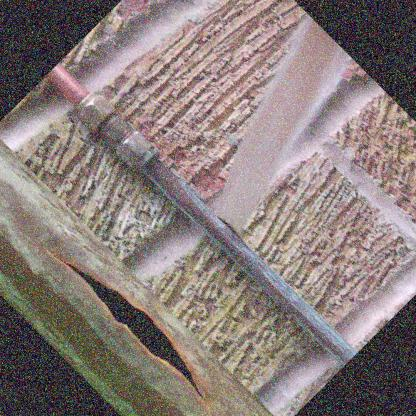burst: (59, 259, 205, 394)
